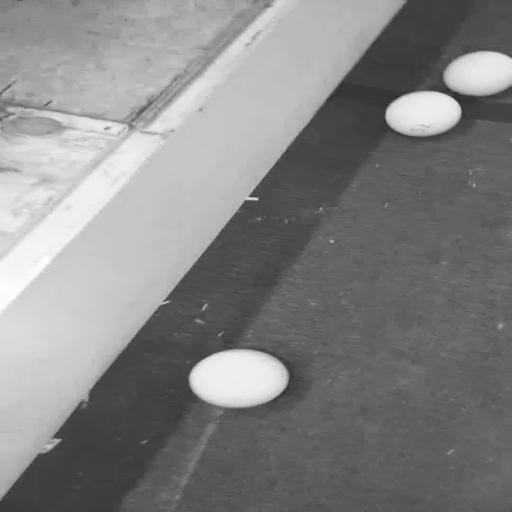fuel: (189, 349, 289, 408), (384, 91, 461, 137), (443, 51, 512, 97)
